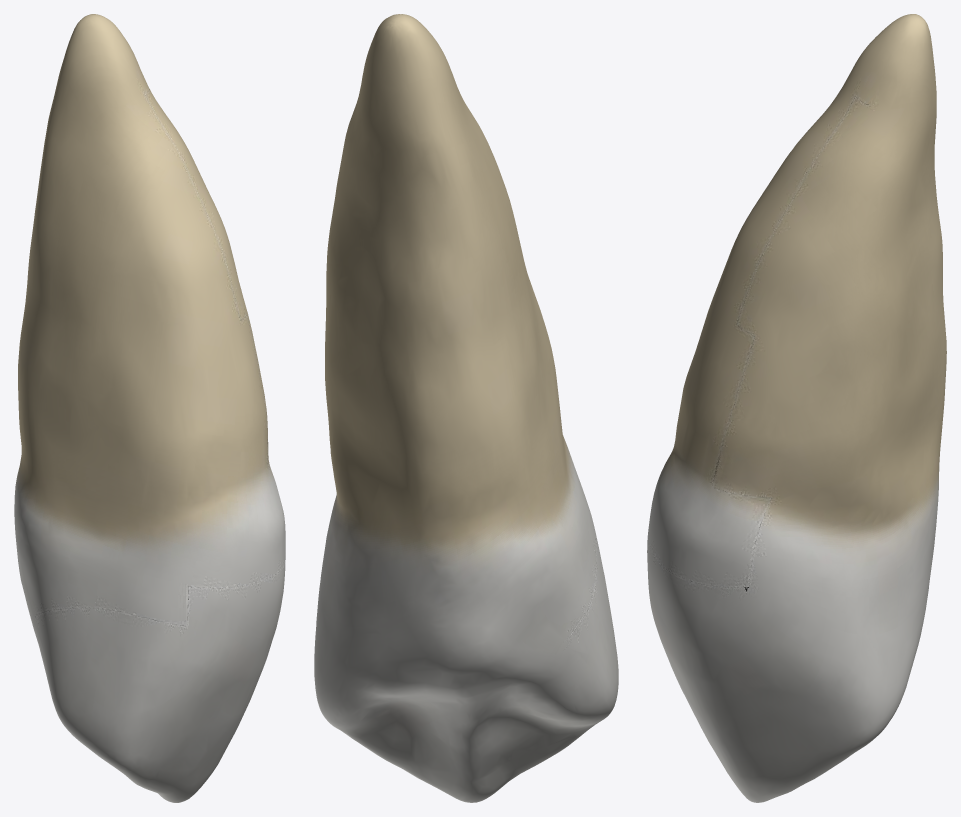
Rendered from maxillary_canine.glb.
The picture shows the model from 3 angles, left to right: view 1: azimuth 30°, elevation 25°; view 2: azimuth 150°, elevation 25°; view 3: azimuth 270°, elevation 25°; orthographic projection. The views are drawn at different scales.
Visible parts, largest first — view 1: Object_2; view 2: Object_2; view 3: Object_2.
Part boxes in pixels (x1=…): Object_2: x1=14, y1=14, x2=285, y2=802; Object_2: x1=314, y1=14, x2=618, y2=802; Object_2: x1=647, y1=14, x2=946, y2=802.
Size of the model in its own units: 0.2798 by 0.9093 by 0.317.
Materials: 1 (1 with a texture image).
